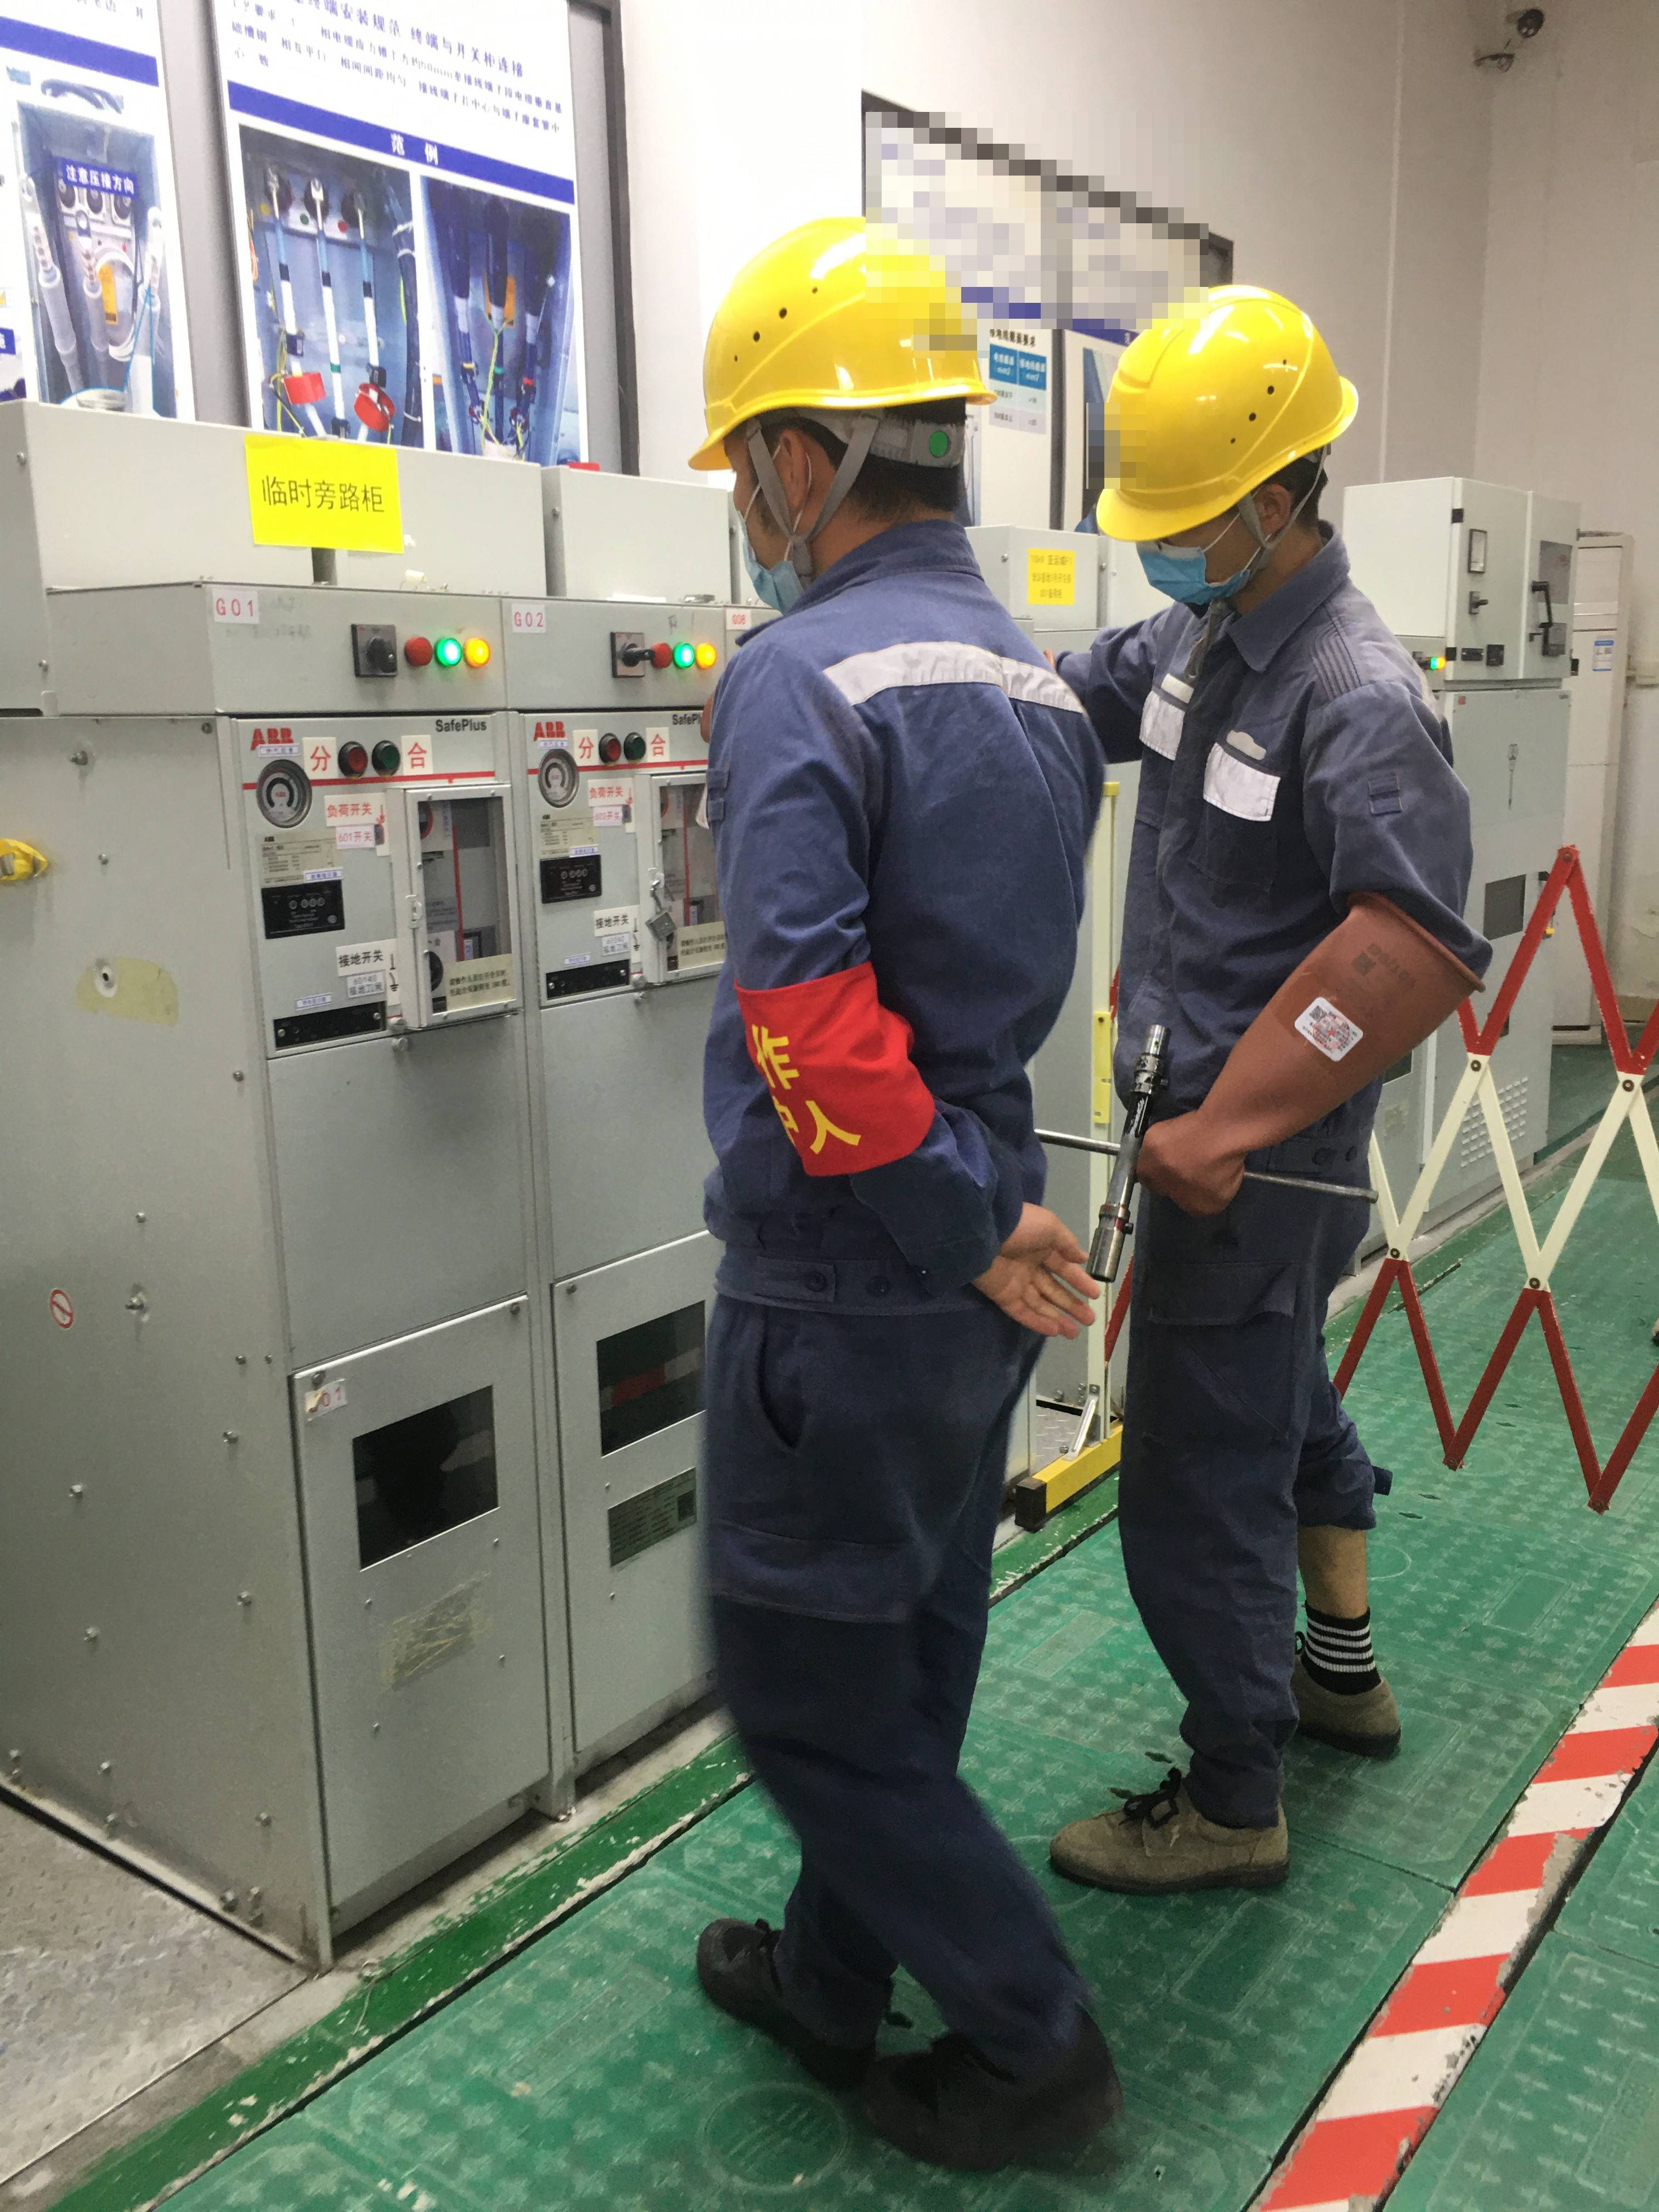downsuit: (697, 1334, 1040, 2052), (1161, 1183, 1398, 1770)
upsuit: (706, 597, 1053, 1313), (1093, 577, 1448, 1163)
wrongbottom: (1312, 1425, 1384, 1630)
